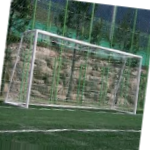goals: (6, 28, 143, 115)
